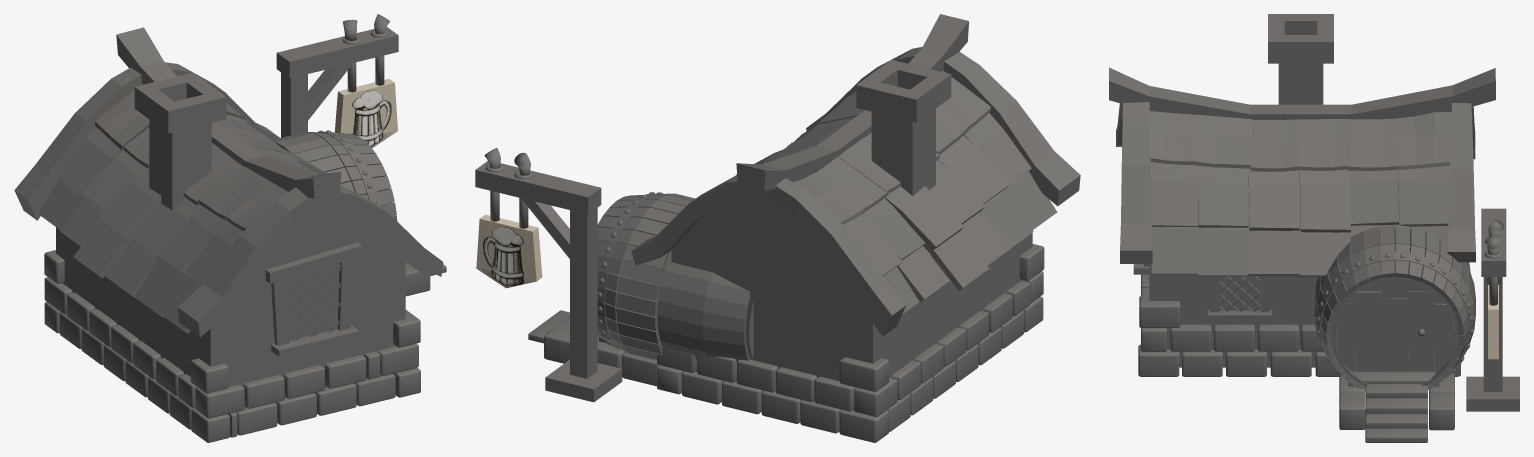
Rendered from tavern.fbx.
The picture shows the model from 3 angles, left to right: view 1: azimuth 30°, elevation 25°; view 2: azimuth 150°, elevation 25°; view 3: azimuth 270°, elevation 25°; orthographic projection. The views are drawn at different scales.
Visible parts, largest first — view 1: Taverne, PoutreToitGauche, Cube.033, Lampadaire, PoutreToitDroit, PoutreToit, Circle.001, Plane.034, Plane.033, Plane.011, Plane.013, Plane.030 (+48 smaller); view 2: Taverne, Circle.001, Lampadaire, PoutreToitDroit, Cube.033, PoutreToitGauche, PoutreToit, Plane.034, Plane.011, Plane.006, Plane.001, Lampadaire.001 (+39 smaller); view 3: PorteArriere.001, Circle.001, PoutreToit, Taverne, Cube.033, PoutreToitGauche, PoutreToitDroit, Plane.011, Plane.010, Plane.006, Plane.001, Plane.019 (+37 smaller).
Boxes of the visible parts, <box> form: Taverne: <box>56,204,405,407</box>; PoutreToitGauche: <box>177,185,443,337</box>; Cube.033: <box>134,72,226,210</box>; Lampadaire: <box>276,27,398,137</box>; PoutreToitDroit: <box>14,62,279,220</box>; PoutreToit: <box>116,27,341,198</box>; Circle.001: <box>272,131,397,220</box>; Plane.034: <box>334,79,397,148</box>; Plane.033: <box>274,263,339,343</box>; Plane.011: <box>99,146,326,237</box>; Plane.013: <box>56,118,274,197</box>; Plane.030: <box>271,259,354,345</box>; Taverne: <box>671,192,1032,409</box>; Circle.001: <box>597,193,750,361</box>; Lampadaire: <box>475,161,601,378</box>; PoutreToitDroit: <box>631,175,906,336</box>; Cube.033: <box>856,59,951,195</box>; PoutreToitGauche: <box>806,47,1080,206</box>; PoutreToit: <box>736,14,968,190</box>; Plane.034: <box>476,214,542,288</box>; Plane.011: <box>736,149,963,249</box>; Plane.006: <box>793,124,1008,204</box>; Plane.001: <box>964,113,1031,184</box>; Lampadaire.001: <box>545,359,622,402</box>; PorteArriere.001: <box>1333,279,1456,372</box>; Circle.001: <box>1314,225,1475,391</box>; PoutreToit: <box>1109,67,1495,119</box>; Taverne: <box>1149,169,1434,367</box>; Cube.033: <box>1268,14,1333,104</box>; PoutreToitGauche: <box>1116,102,1152,263</box>; PoutreToitDroit: <box>1447,102,1475,262</box>; Plane.011: <box>1299,169,1350,232</box>; Plane.010: <box>1248,168,1299,230</box>; Plane.006: <box>1198,165,1248,227</box>; Plane.001: <box>1150,162,1198,226</box>; Plane.019: <box>1394,112,1451,170</box>.
Bounding box in the file's own units: 1963 × 1325 × 1802.
Materials: 9 (9 with a texture image).
